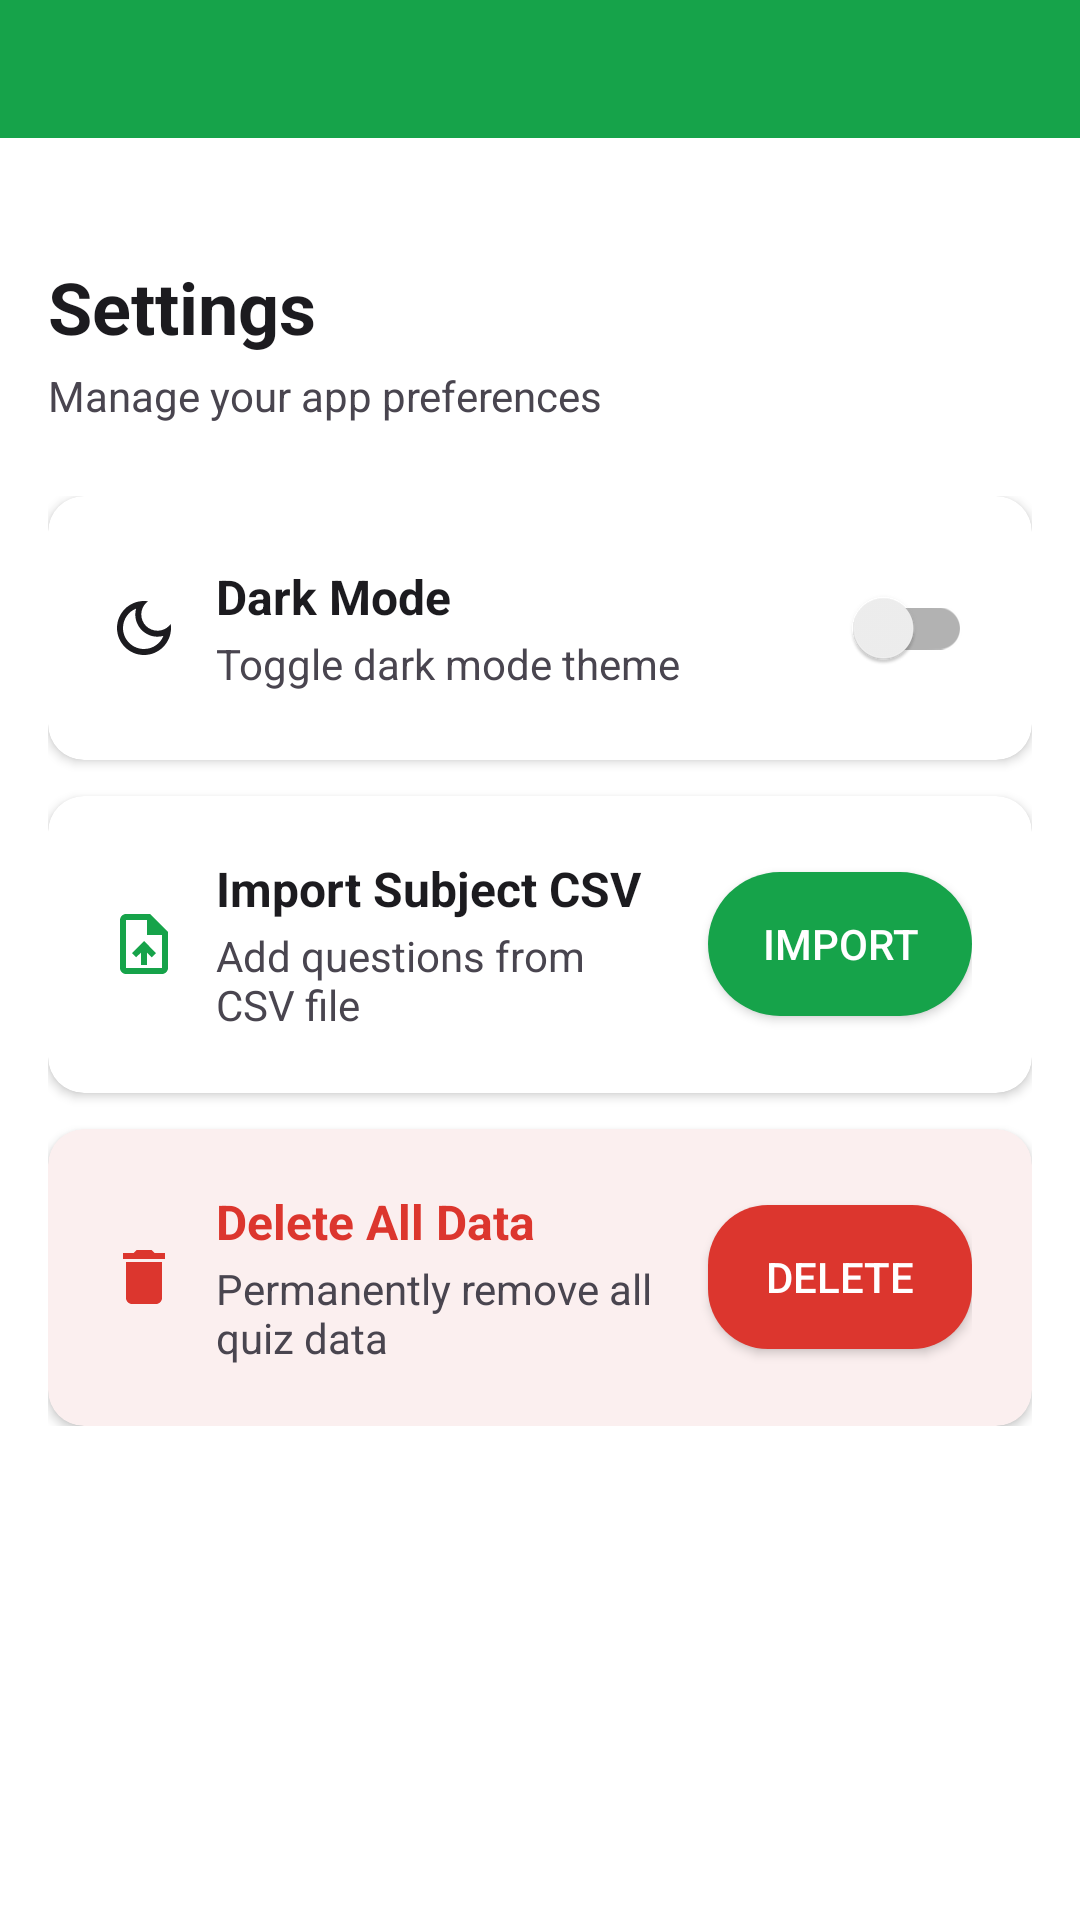

Locate icon controls on the screen. Image size 1080px x 1920px, boxes as (x1, y1, x2, y2).
file up: (120, 914, 168, 974)
moon: (117, 601, 171, 655)
trash: (123, 1250, 165, 1304)
